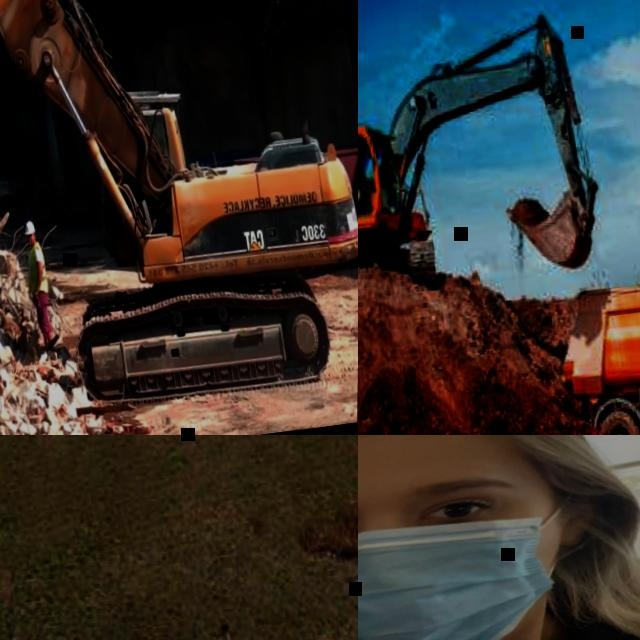Hardhat: (24, 219, 37, 235)
Mask: (358, 510, 551, 640)
NO-Hardhat: (358, 435, 591, 503)
NO-Mask: (29, 236, 36, 245)
NO-Safety Vest: (358, 597, 640, 640)
Person: (358, 435, 640, 640), (20, 216, 60, 350), (358, 150, 363, 208)
Safety Vest: (26, 246, 50, 294)
machinery: (0, 0, 358, 435), (358, 2, 611, 317), (93, 584, 358, 640)
